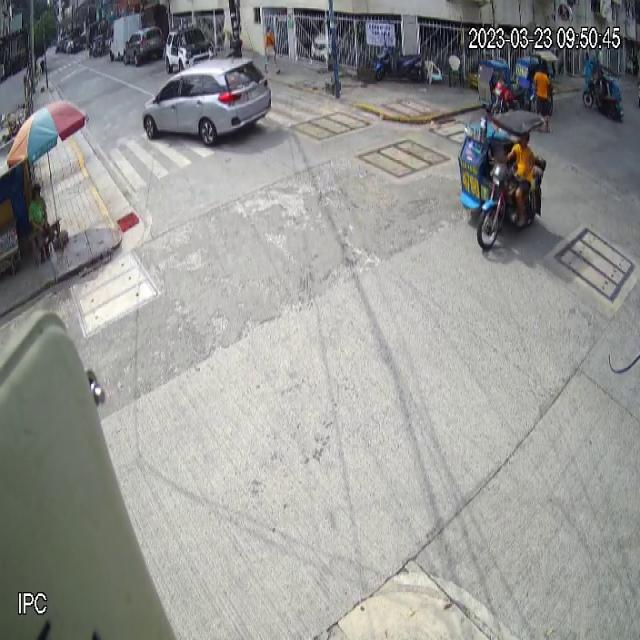Car: (142, 57, 272, 147)
Tricycle: (459, 109, 547, 251)
